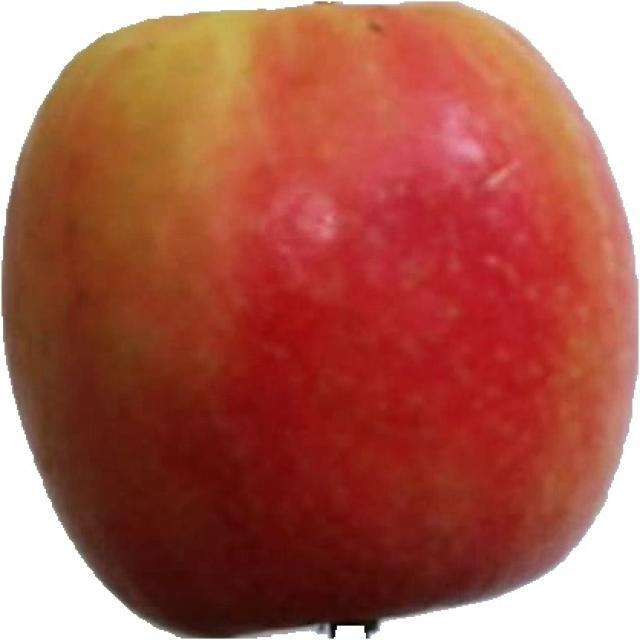apple: (3, 3, 636, 637)
